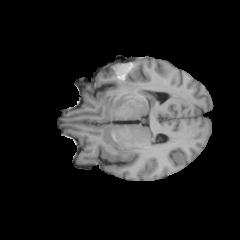glioma: (114, 59, 149, 97)
